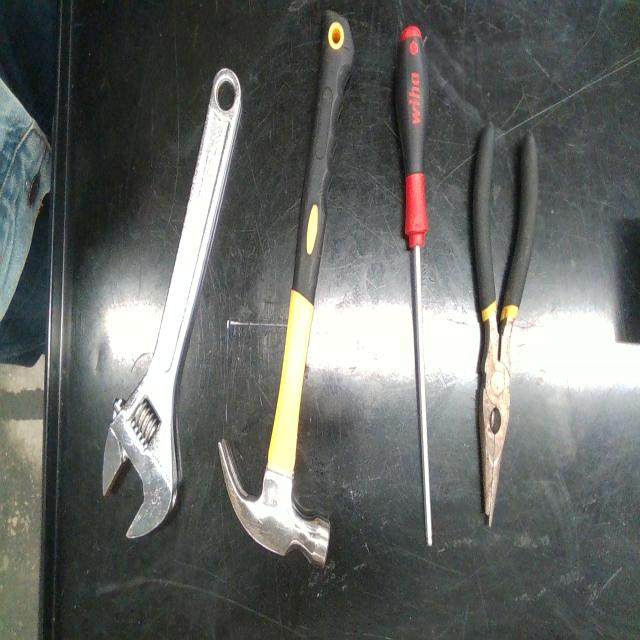Screwdriver: (396, 27, 432, 546)
